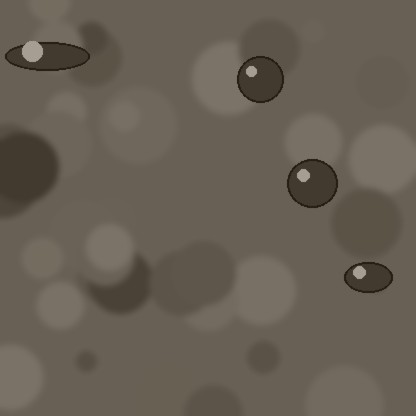gota: (5, 43, 89, 73), (287, 161, 337, 211), (237, 58, 283, 106), (344, 263, 392, 295)
